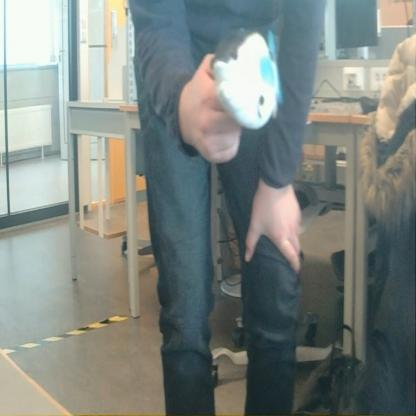rubberfish: (204, 17, 290, 132)
